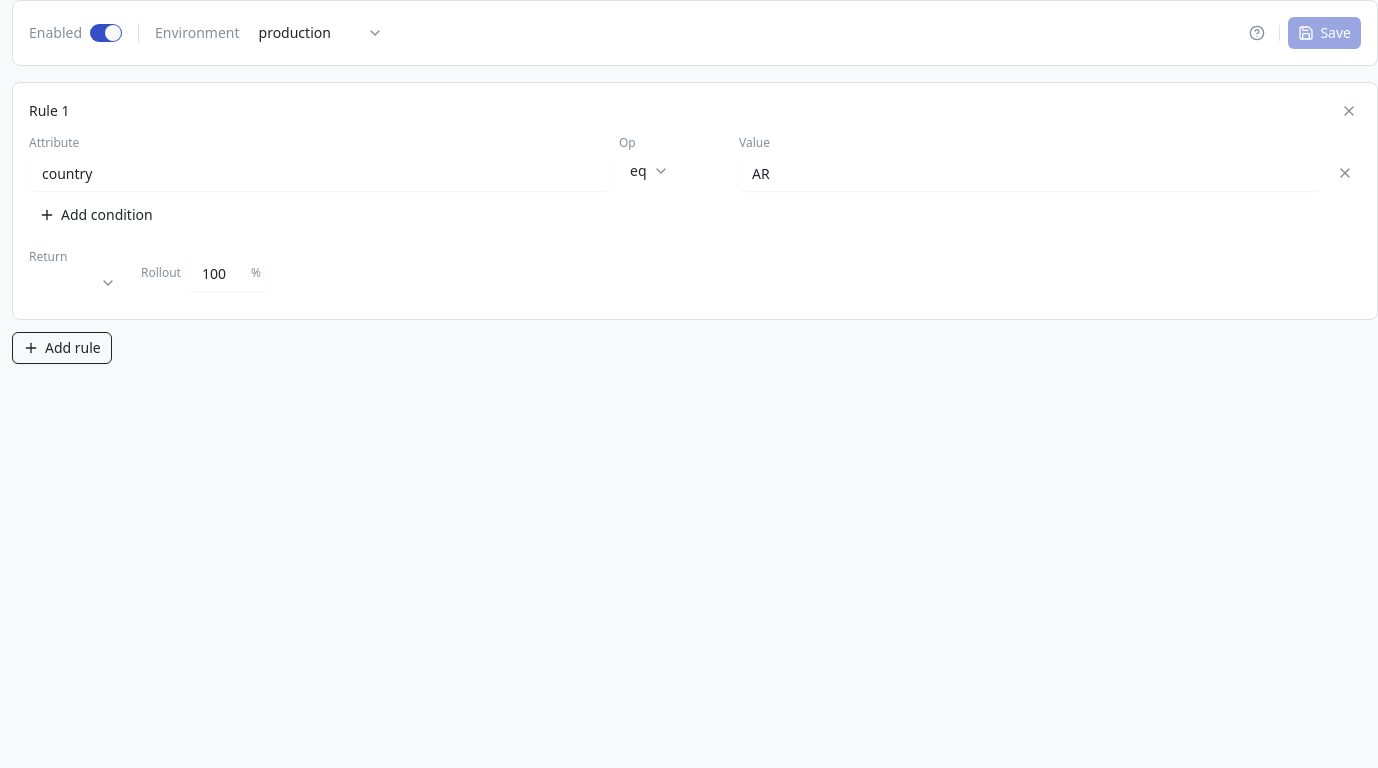
Test case: RuleEditor › can add a new rule
What coordinates should you click on to do the following:
click the button "Add rule"
I would click on:
 (62, 348)
Its box is [12,332,112,364].
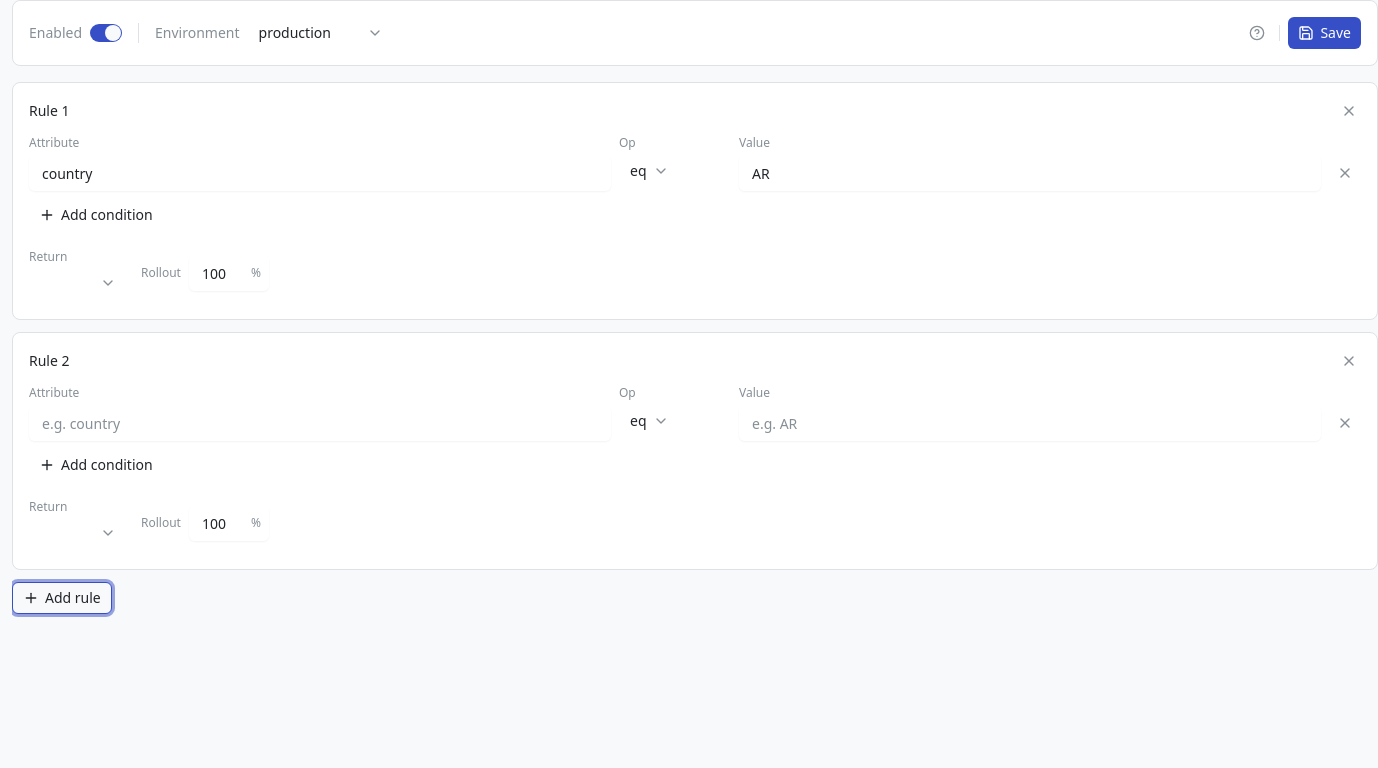
Now the text "Rule 1" is shown 2 times, box [29,101,70,121]; [29,351,70,371]
